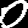D: (0, 0, 28, 28)
